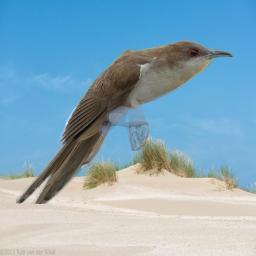Cuckoo: (16, 40, 234, 204)
